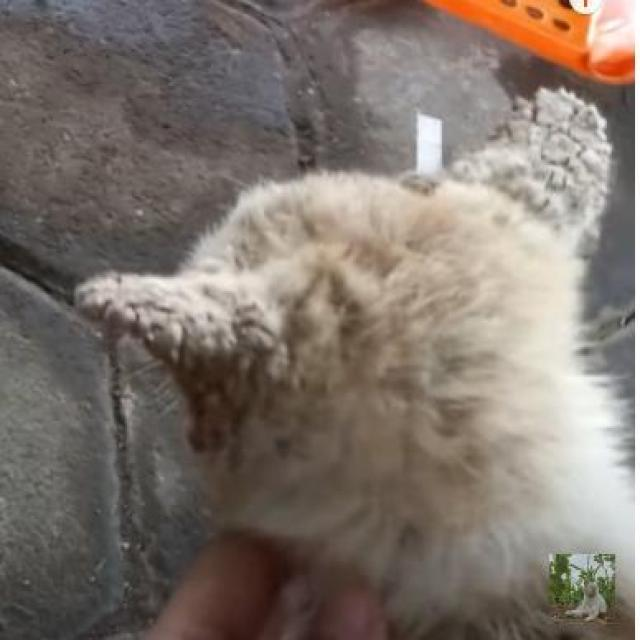ghe: (77, 281, 326, 450), (476, 88, 608, 228)
